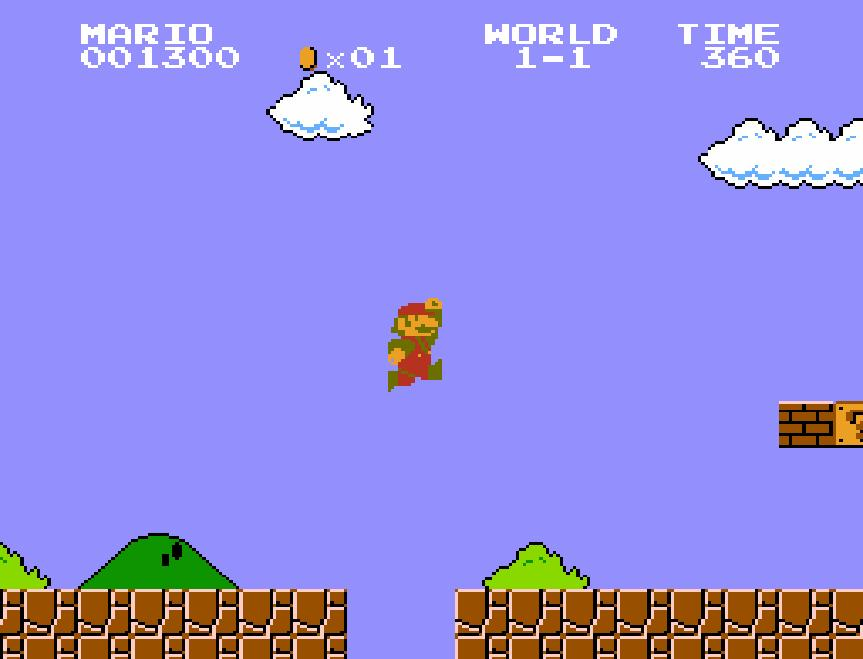big_mario: (386, 295, 444, 394)
